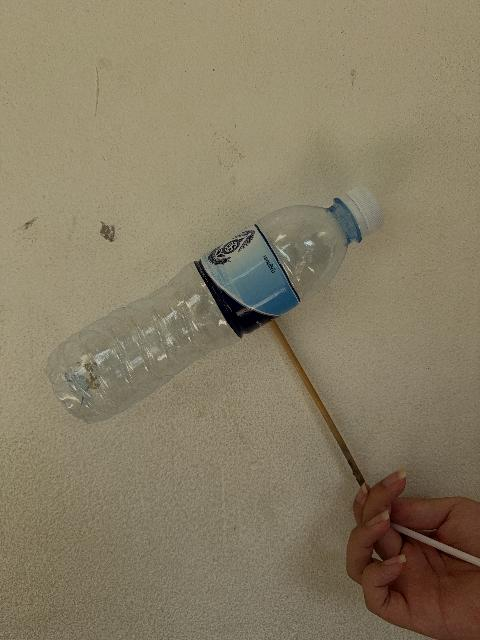bottle: (46, 187, 382, 422)
